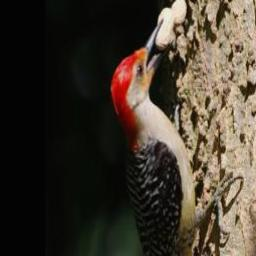Woodpecker: (110, 18, 247, 256)
